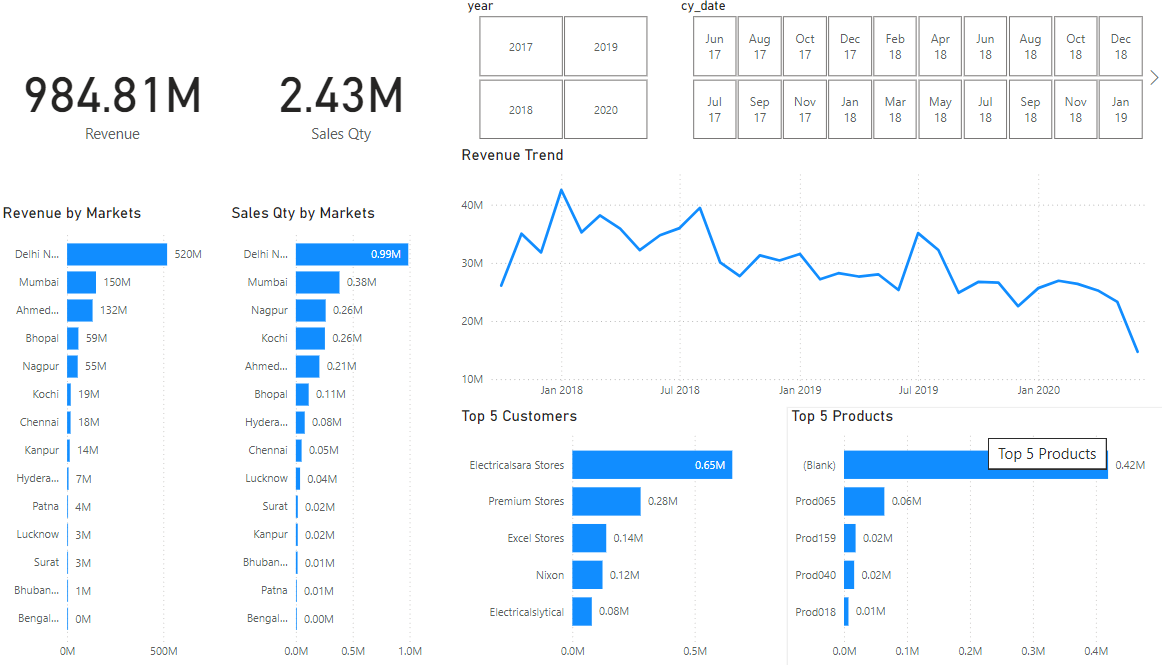

What the dashboard file says about the page in this screenshot:
{"tool":"powerbi","page":{"name":"Page 1","canvas":[1279,740],"ordinal":0},"visuals":[{"type":"card","fields":{"Values":["BaseMeasures.Revenue"]},"box":[0,0,251.1,230.5],"z":0},{"type":"card","fields":{"Values":["BaseMeasures.Sales Qty"]},"box":[251.1,0,251.1,230.5],"z":1},{"type":"barChart","title":"Revenue by Markets","fields":{"Y":["BaseMeasures.Revenue"],"Category":["sales markets.markets_name"]},"box":[0,230.4,250.9,510.1],"z":2},{"type":"barChart","title":"Sales Qty by Markets","fields":{"Y":["BaseMeasures.Sales Qty"],"Category":["sales markets.markets_name"]},"box":[250.9,230.4,250.9,510.1],"z":3},{"type":"slicer","fields":{"Values":["sales date.year"]},"box":[501.8,0,234.5,167.3],"z":4},{"type":"slicer","fields":{"Values":["sales date.cy_date"]},"box":[736.3,0,543,167.3],"z":5},{"type":"barChart","title":"Top 5 Customers","fields":{"Y":["BaseMeasures.Sales Qty"],"Category":["sales customers.custmer_name"]},"box":[503.2,453.8,362,286.6],"z":6},{"type":"barChart","title":"Top 5 Products","fields":{"Y":["BaseMeasures.Sales Qty"],"Category":["sales products.product_code"]},"box":[865.2,453.8,414.1,286.6],"z":7},{"type":"lineChart","title":"Revenue Trend","fields":{"Y":["BaseMeasures.Revenue"],"Category":["sales date.cy_date.Variation.Date Hierarchy.Year","sales date.cy_date.Variation.Date Hierarchy.Quarter","sales date.cy_date.Variation.Date Hierarchy.Month","sales date.cy_date.Variation.Date Hierarchy.Day"]},"box":[503.2,167.3,776.1,286.6],"z":8}]}

Visuals, with their boxes in screenshot pixels (x1, y1, x2, y2), scaled from the page's 1279x740 canvas onto the 1162x665 screenshot:
card - BaseMeasures.Revenue: l=0, t=0, r=228, b=207
card - BaseMeasures.Sales Qty: l=228, t=0, r=456, b=207
"Revenue by Markets" barChart: l=0, t=207, r=228, b=664
"Sales Qty by Markets" barChart: l=228, t=207, r=456, b=664
slicer - sales date.year: l=456, t=0, r=669, b=150
slicer - sales date.cy_date: l=669, t=0, r=1161, b=150
"Top 5 Customers" barChart: l=457, t=408, r=786, b=664
"Top 5 Products" barChart: l=786, t=408, r=1161, b=664
"Revenue Trend" lineChart: l=457, t=150, r=1161, b=408
